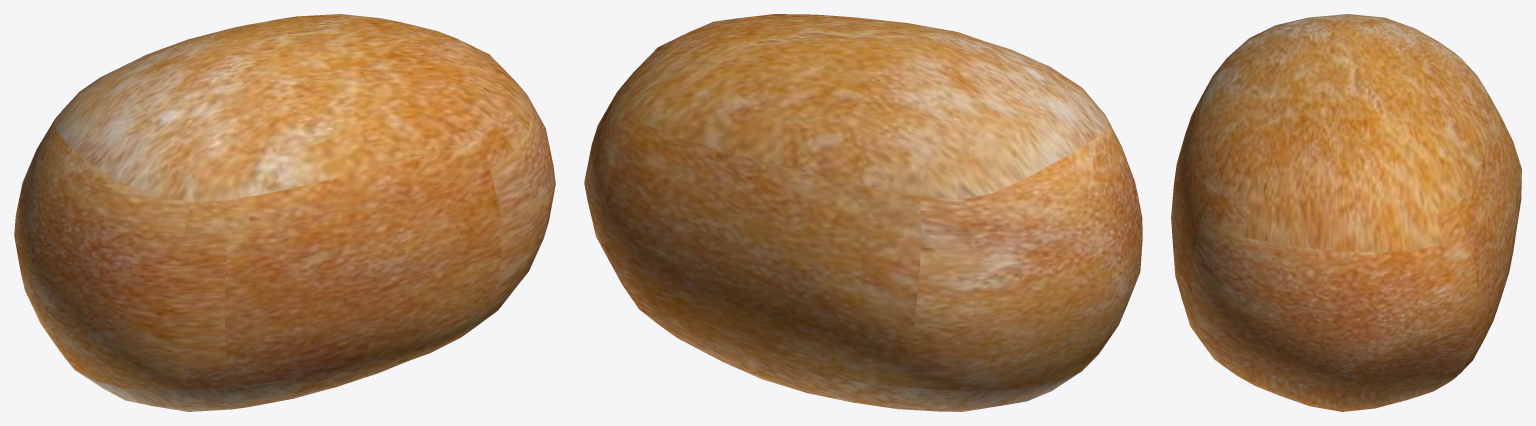
File: luti1.fbx
3 views of the same model, side by side, from view 1: azimuth 30°, elevation 25°; view 2: azimuth 150°, elevation 25°; view 3: azimuth 270°, elevation 25° (orthographic). The views are drawn at different scales.
Parts seen in each view (by area): view 1: luti1; view 2: luti1; view 3: luti1.
Part boxes in pixels (x1=…): luti1: x1=14, y1=14, x2=555, y2=411; luti1: x1=584, y1=14, x2=1142, y2=411; luti1: x1=1171, y1=14, x2=1521, y2=411.
Size of the model in its own units: 9.31 by 6.04 by 6.07.
